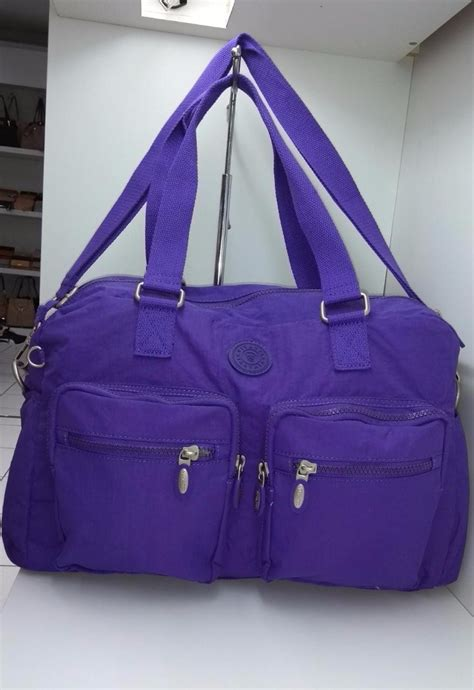nylon: (4, 33, 471, 591)
